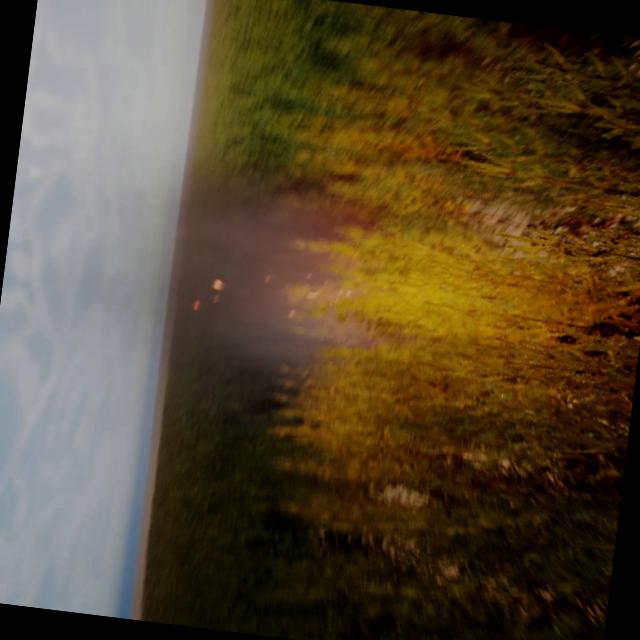fire: (302, 208, 524, 428)
smoke: (126, 170, 402, 386)
